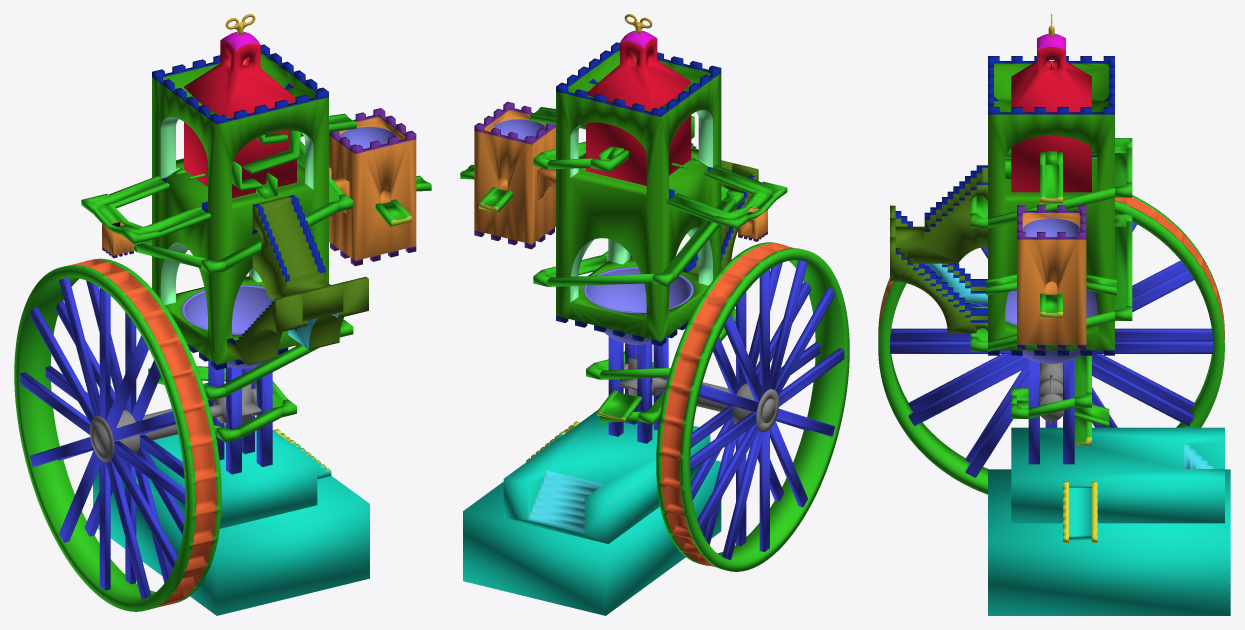
File: marbleTower.glb
The picture shows the model from 3 angles, left to right: view 1: azimuth 30°, elevation 25°; view 2: azimuth 150°, elevation 25°; view 3: azimuth 270°, elevation 25°; orthographic projection. The views are drawn at different scales.
Parts seen in each view (by area): view 1: tower, wheel, track, supports; view 2: tower, wheel, track, supports; view 3: tower, wheel, track, supports.
Part boxes in pixels (<box>): tower: <box>93,31,416,615</box>; wheel: <box>14,258,261,611</box>; track: <box>81,113,431,442</box>; supports: <box>208,360,272,474</box>; tower: <box>463,30,767,615</box>; wheel: <box>618,242,849,571</box>; track: <box>460,107,787,424</box>; supports: <box>608,336,668,443</box>; tower: <box>890,33,1230,615</box>; wheel: <box>878,195,1224,494</box>; track: <box>970,138,1132,445</box>; supports: <box>1028,359,1074,464</box>.
Bounding box in the file's own units: 31.9 × 52.61 × 30.5.
3 materials, 3 textured.
